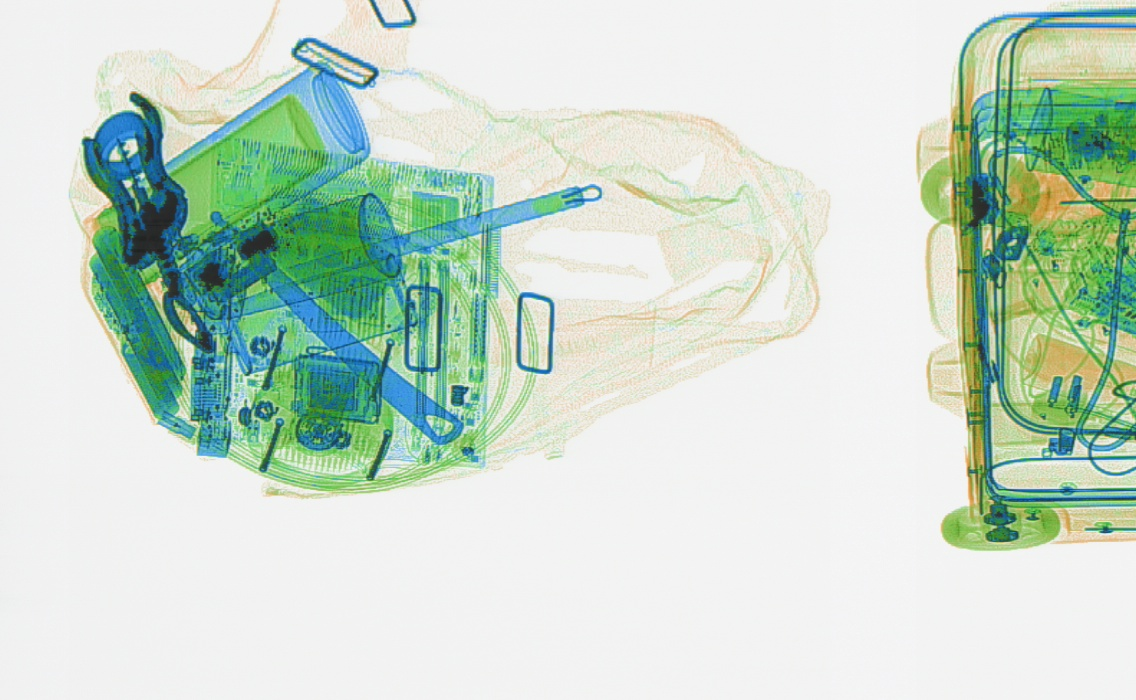powerbank: (77, 215, 188, 430)
zippooil: (218, 254, 417, 376), (1021, 84, 1133, 188)
